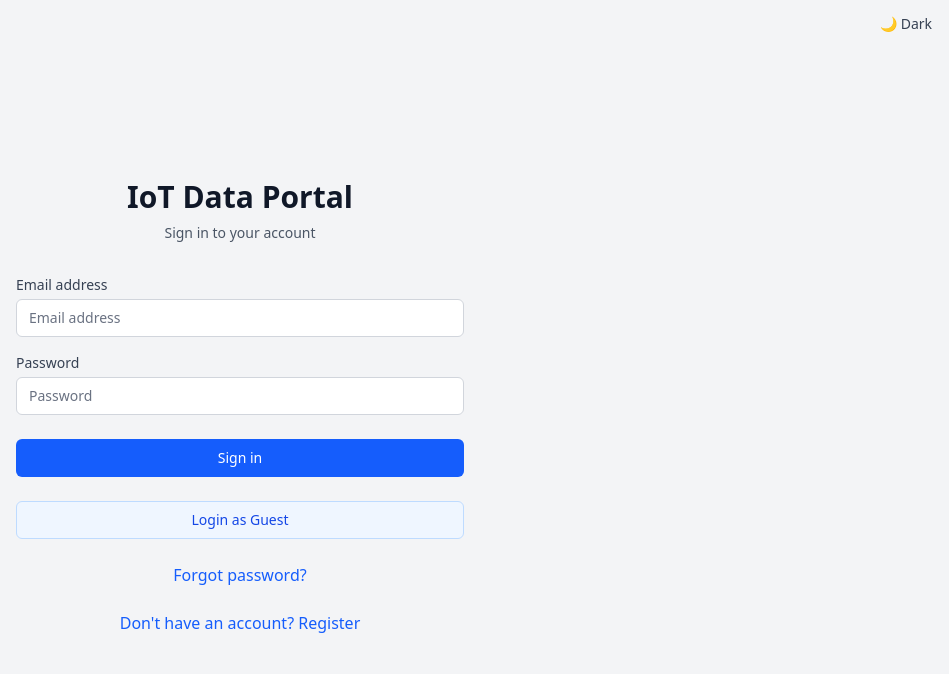
Scenario: Auth pages › shows validation errors on login submit with empty fields
Click the button "Sign in" at [240, 458], box 16,439 -> 464,477
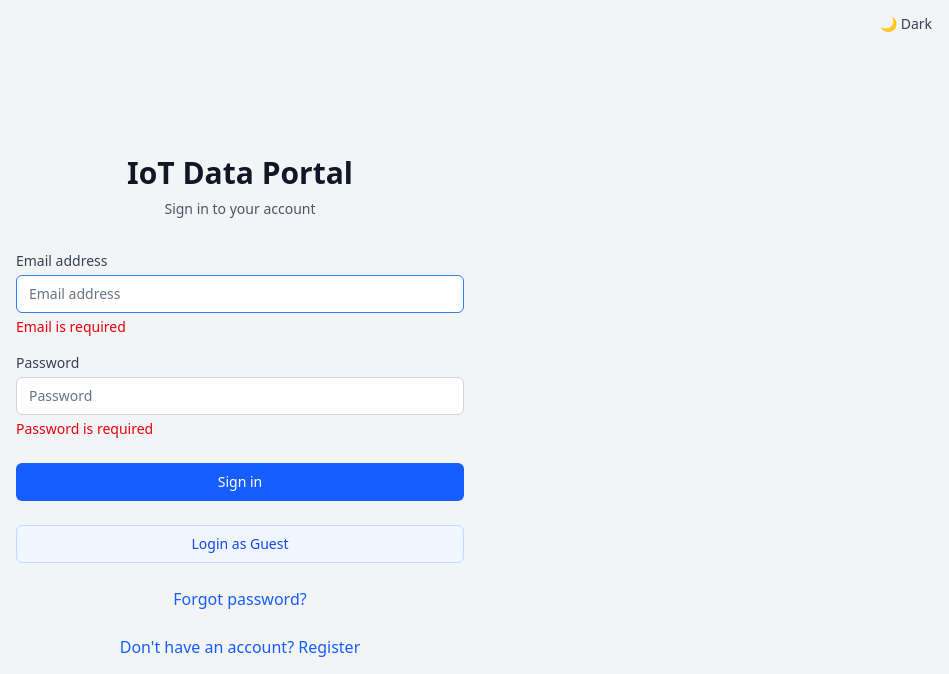
Now the text "Email is required" is shown, box 16,317 -> 126,336
Now the text "Password is required" is shown, box 16,419 -> 153,438
